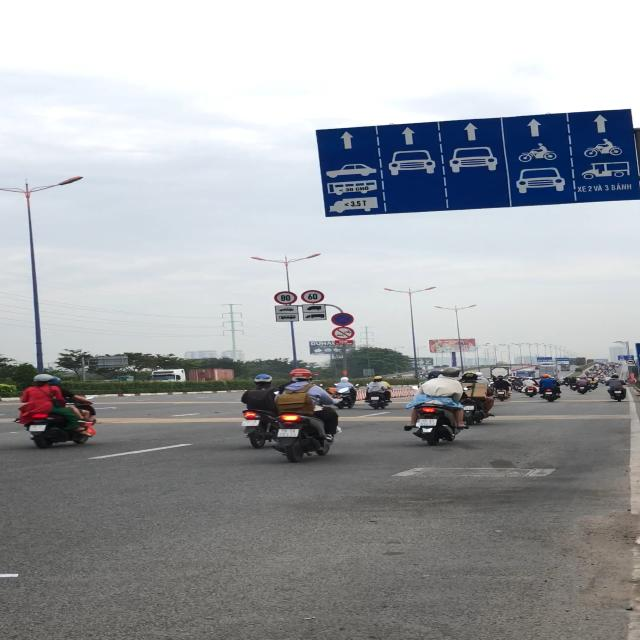Bien bao cam dung xe va do xe: (331, 312, 355, 326)
Bien bao toc do toi da cho phep: (301, 290, 327, 304), (273, 291, 298, 305)
